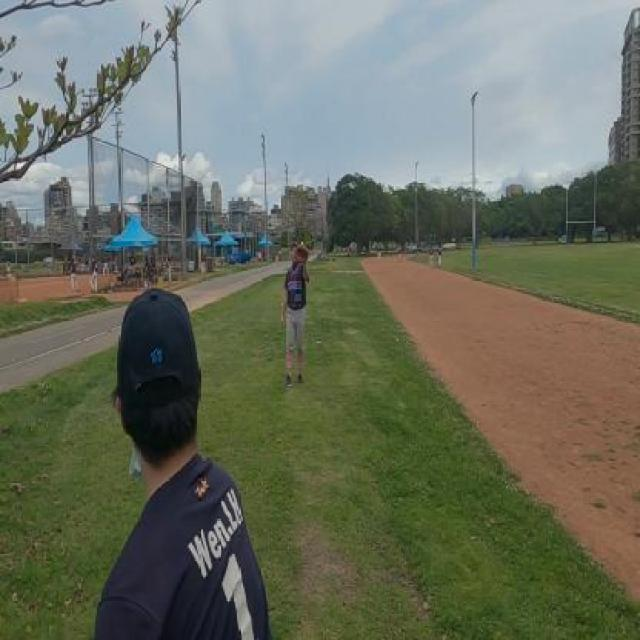baseball: (299, 240, 304, 248)
